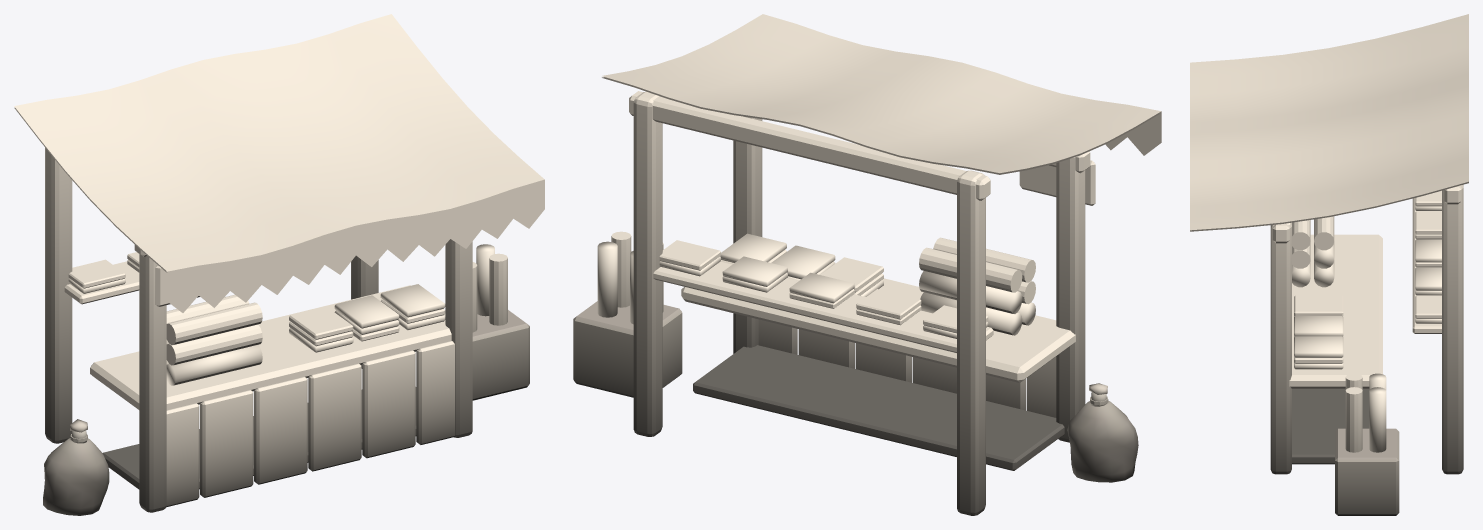
The model's file is SM_VK_MarketStall_Draper.fbx.
3 views of the same model, side by side, from view 1: azimuth 30°, elevation 25°; view 2: azimuth 150°, elevation 25°; view 3: azimuth 270°, elevation 25° (orthographic). The views are drawn at different scales.
Parts seen in each view (by area): view 1: SM_VK_MarketStall_Draper.001; view 2: SM_VK_MarketStall_Draper.001; view 3: SM_VK_MarketStall_Draper.001.
Part boxes in pixels (left/top/right/bottom): SM_VK_MarketStall_Draper.001: left=14, top=14, right=544, bottom=515; SM_VK_MarketStall_Draper.001: left=573, top=14, right=1161, bottom=515; SM_VK_MarketStall_Draper.001: left=1190, top=14, right=1468, bottom=515.
Bounding box in the file's own units: 4.82 × 3.17 × 2.6.
